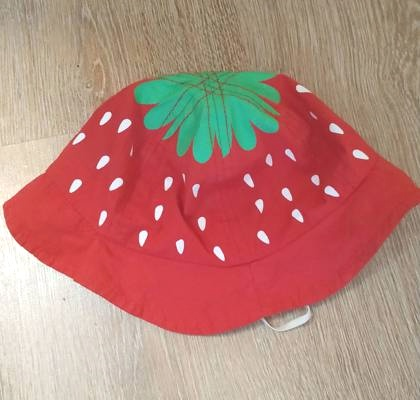Hat: (12, 48, 414, 344)
